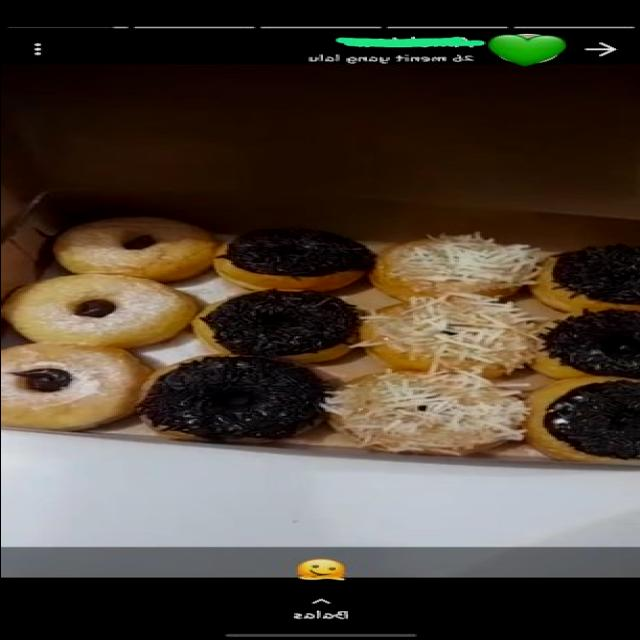donat: (324, 372, 525, 456), (140, 355, 326, 445), (0, 273, 199, 350), (360, 294, 540, 379), (0, 343, 157, 433), (370, 232, 550, 301), (48, 216, 220, 286), (190, 291, 356, 362), (215, 227, 374, 294)
